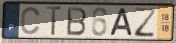6: (91, 6, 109, 37)
A: (109, 7, 134, 37)
B: (66, 6, 88, 37)
C: (20, 6, 42, 37)
T: (45, 5, 64, 37)
Z: (134, 7, 158, 38)
